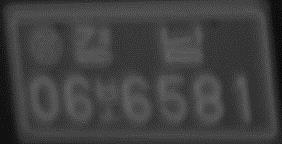0: (26, 72, 61, 124)
1: (232, 74, 254, 126)
5: (155, 72, 191, 124)
6: (62, 71, 95, 126), (122, 74, 152, 126)
8: (192, 73, 226, 124)
경남_D: (72, 23, 207, 67)
보: (95, 78, 123, 125)
영: (26, 24, 66, 67)
